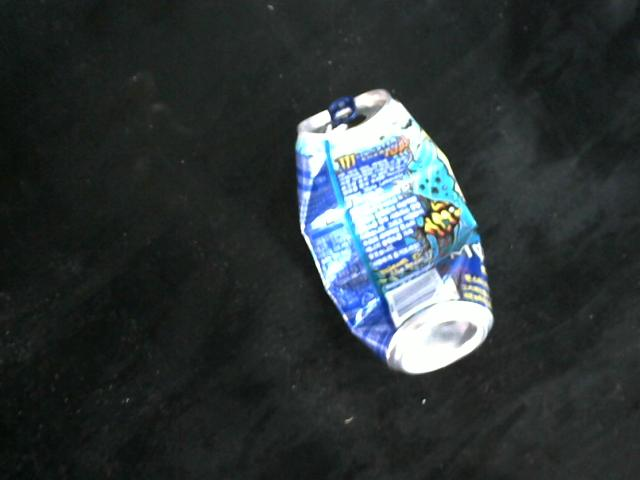can: (281, 85, 495, 376)
